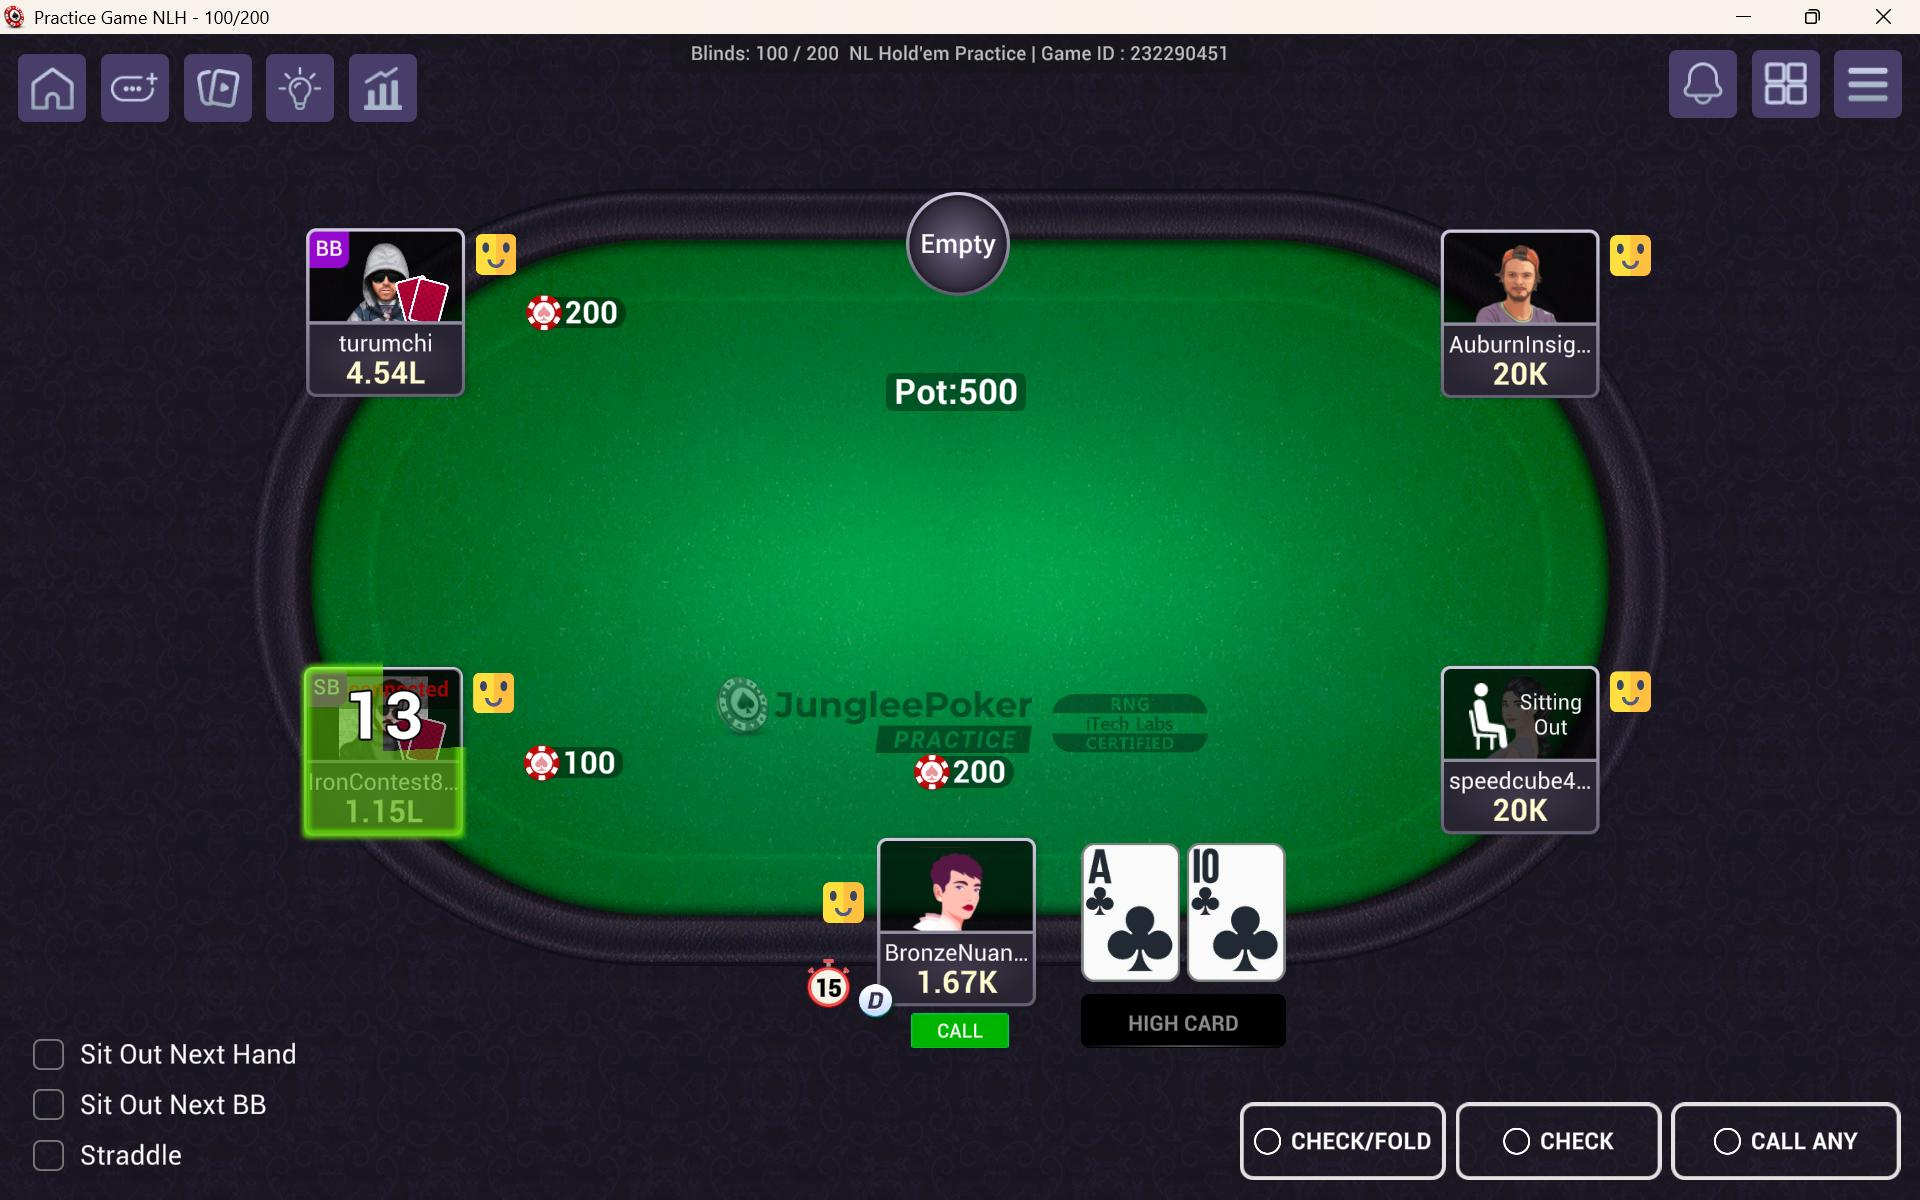card1_rank: (1085, 840, 1138, 890)
card1_suite_club: (1105, 900, 1182, 983)
card2_rank: (1188, 842, 1242, 888)
card2_suite_club: (1210, 902, 1280, 980)
game_id: (1035, 35, 1260, 80)
my_bet: (915, 748, 1015, 798)
my_stack: (895, 962, 1010, 1002)
total_pot: (880, 370, 1037, 418)
villian1_bet: (522, 742, 632, 790)
villian1_name: (302, 758, 460, 800)
villian1_stack: (317, 792, 442, 833)
villian2_bet: (520, 295, 630, 338)
villian2_name: (315, 330, 460, 360)
villian2_stack: (335, 358, 448, 400)
villian4_name: (1438, 327, 1602, 362)
villian4_stack: (1478, 360, 1560, 390)
villian5_name: (1450, 770, 1598, 798)
villian5_stack: (1475, 790, 1580, 835)
